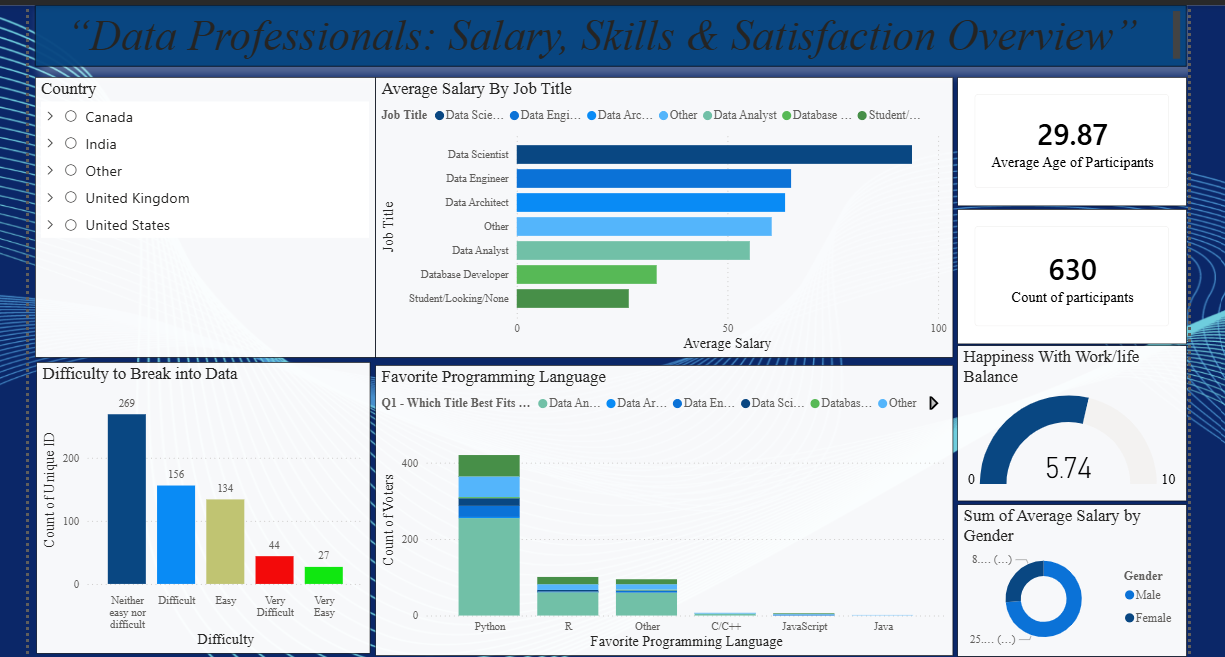

This screenshot's page, from the dashboard's own definition file:
{"tool":"powerbi","page":{"name":"Page 1","canvas":[1280,720],"ordinal":0},"visuals":[{"type":"textbox","box":[6.6,0,1272.2,67.9],"z":0},{"type":"cardVisual","fields":{"Data":["CountNonNull(Data Professional Survey.Unique ID)"]},"box":[1025.4,225.3,253.4,149.1],"z":1000},{"type":"cardVisual","fields":{"Data":["Avg(Data Professional Survey.Q10 - Current Age)"]},"box":[1025.4,79.5,253.4,142.5],"z":2000},{"type":"barChart","title":"Average Salary By Job Title","fields":{"Category":["Data Professional Survey.Q1 - Which Title Best Fits your Current Role?.1"],"Y":["Avg(Data Professional Survey.Average Salary)"],"Series":["Data Professional Survey.Q1 - Which Title Best Fits your Current Role?.1"]},"box":[382.6,79.5,637.7,309.8],"z":3000},{"type":"columnChart","title":"Favorite Programming Language","fields":{"Category":["Data Professional Survey.Q5 - Favorite Programming Language.1"],"Y":["CountNonNull(Data Professional Survey.Unique ID)"],"Series":["Data Professional Survey.Q1 - Which Title Best Fits your Current Role?.1"]},"box":[382.6,397.6,637.7,321.4],"z":4000},{"type":"gauge","title":"Happiness With Work/life Balance","fields":{"Y":["Avg(Data Professional Survey.Q6 - How Happy are you in your Current Position with the following? (Work/Life Balance))"],"MinValue":["Min(Data Professional Survey.Q6 - How Happy are you in your Current Position with the following? (Work/Life Balance))1"],"MaxValue":["Max(Data Professional Survey.Q6 - How Happy are you in your Current Position with the following? (Work/Life Balance))2"]},"box":[1025.4,376,253.4,172.3],"z":7000},{"type":"columnChart","title":"Difficulty to Break into Data","fields":{"Category":["Data Professional Survey.Q7 - How difficult was it for you to break into Data?"],"Y":["CountNonNull(Data Professional Survey.Unique ID)"]},"box":[7.8,395,368.8,321.7],"z":9000},{"type":"listSlicer","fields":{"Values":["Data Professional Survey.Q11 - Which Country do you live in?.1","Data Professional Survey.Q1 - Which Title Best Fits your Current Role?.1","Data Professional Survey.Q9 - Male/Female?"]},"box":[7,80,376,310],"z":9001},{"type":"donutChart","fields":{"Category":["Data Professional Survey.Q9 - Male/Female?"],"Y":["Sum(Data Professional Survey.Average Salary)"]},"box":[1025,551,253,168],"z":9002}]}

Visuals, with their boxes in screenshot pixels (x1, y1, x2, y2):
textbox: BBox(35, 3, 1180, 64)
cardVisual - CountNonNull(Data Professional Survey.Unique ID): BBox(952, 206, 1180, 340)
cardVisual - Avg(Data Professional Survey.Q10 - Current Age): BBox(952, 75, 1180, 203)
"Average Salary By Job Title" barChart: BBox(373, 75, 947, 354)
"Favorite Programming Language" columnChart: BBox(373, 361, 947, 650)
"Happiness With Work/life Balance" gauge: BBox(952, 342, 1180, 497)
"Difficulty to Break into Data" columnChart: BBox(36, 359, 368, 648)
listSlicer - Data Professional Survey.Q11 - Which Country do you live in?.1 x Data Professional Survey.Q1 - Which Title Best Fits your Current Role?.1: BBox(35, 75, 373, 354)
donutChart - Data Professional Survey.Q9 - Male/Female? x Sum(Data Professional Survey.Average Salary): BBox(951, 499, 1179, 650)
